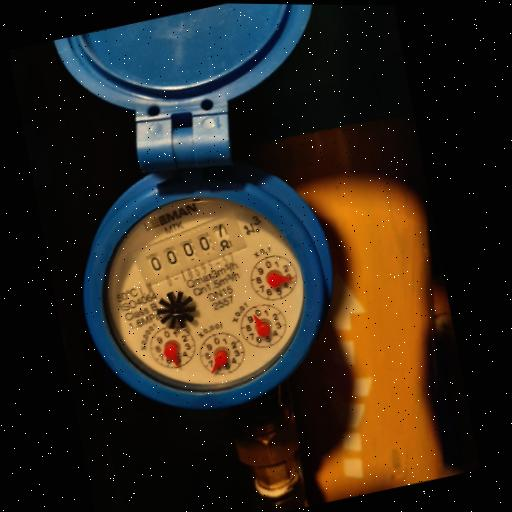0: (144, 250, 166, 277), (161, 244, 183, 270), (178, 237, 199, 264), (194, 231, 215, 257)
7: (211, 221, 235, 253)
border_water_meter_number: (126, 208, 253, 291)
